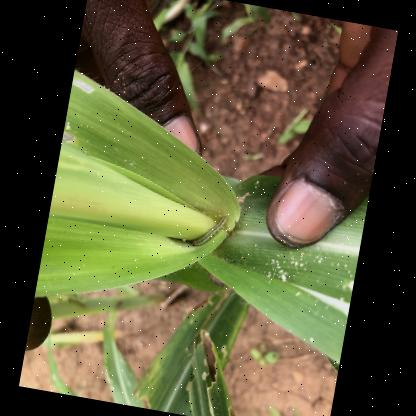Fall Armyworm Larvae: (190, 209, 228, 252)
